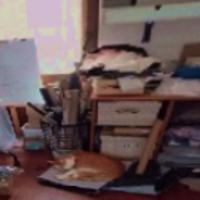asleep: (46, 150, 127, 184)
